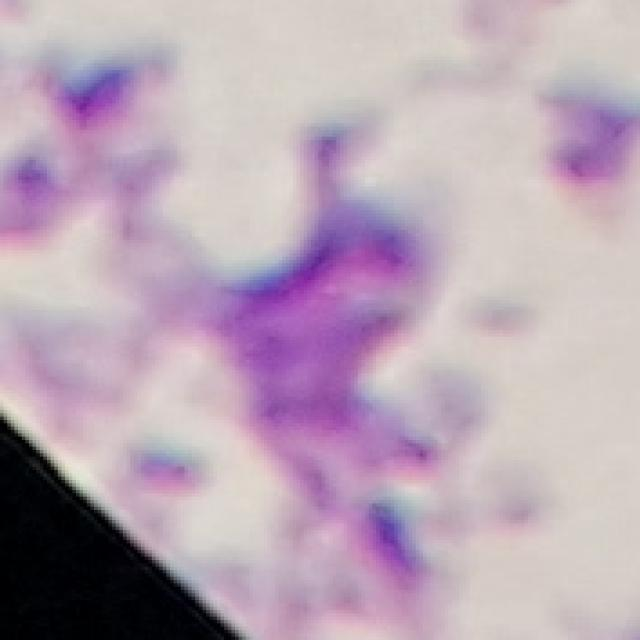non-sperm: (209, 193, 444, 588)
